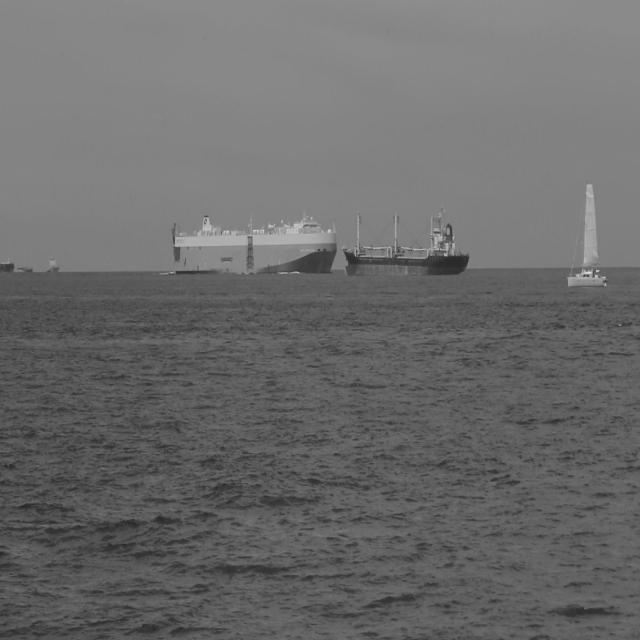ship: (169, 210, 337, 276), (340, 200, 471, 278), (565, 178, 608, 288), (45, 252, 60, 274), (0, 256, 15, 274), (15, 262, 34, 274)
